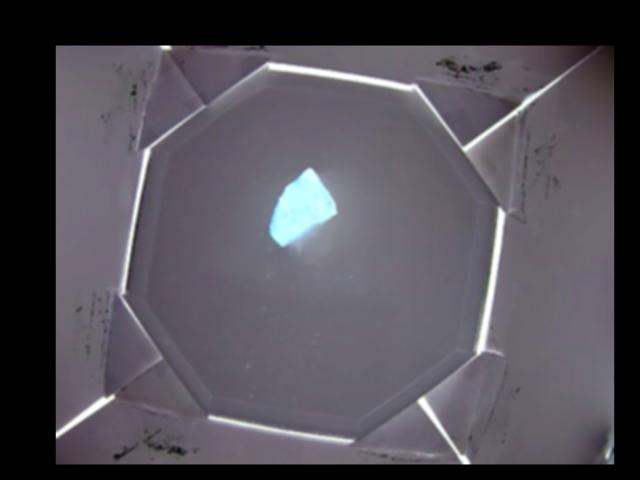Brisk: (266, 167, 336, 245)
